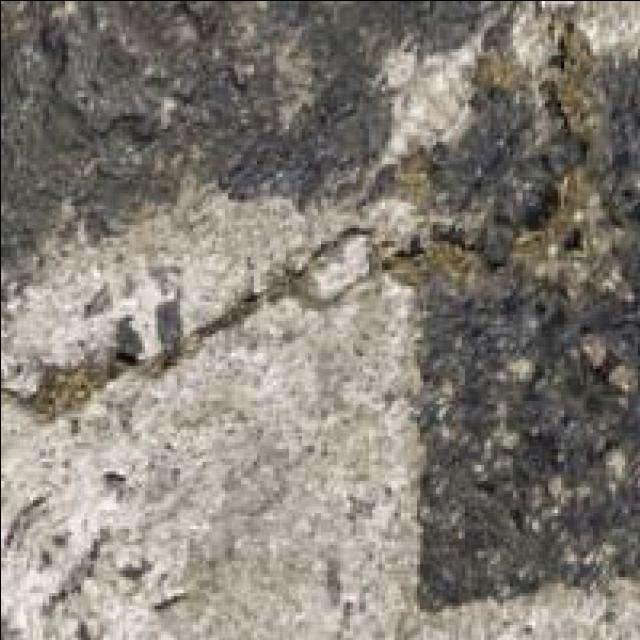SurfaceCrack: (0, 216, 348, 458)
